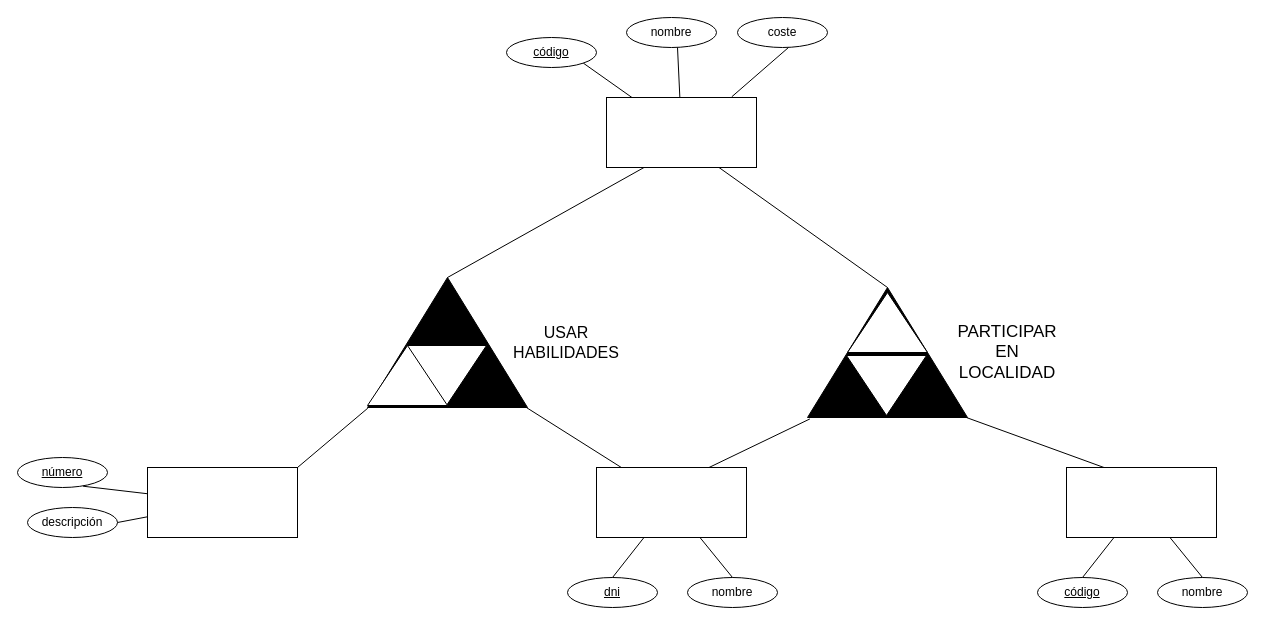
This 1265x625 diagram has some shape labels left out. Here are the shapes that lost their labels. From the top down, the centre of each, then its label:
the point at 681,132: PROYECTO
the point at 222,502: HABILIDAD
the point at 671,502: EMPLEADO
the point at 1141,502: LOCALIDAD
